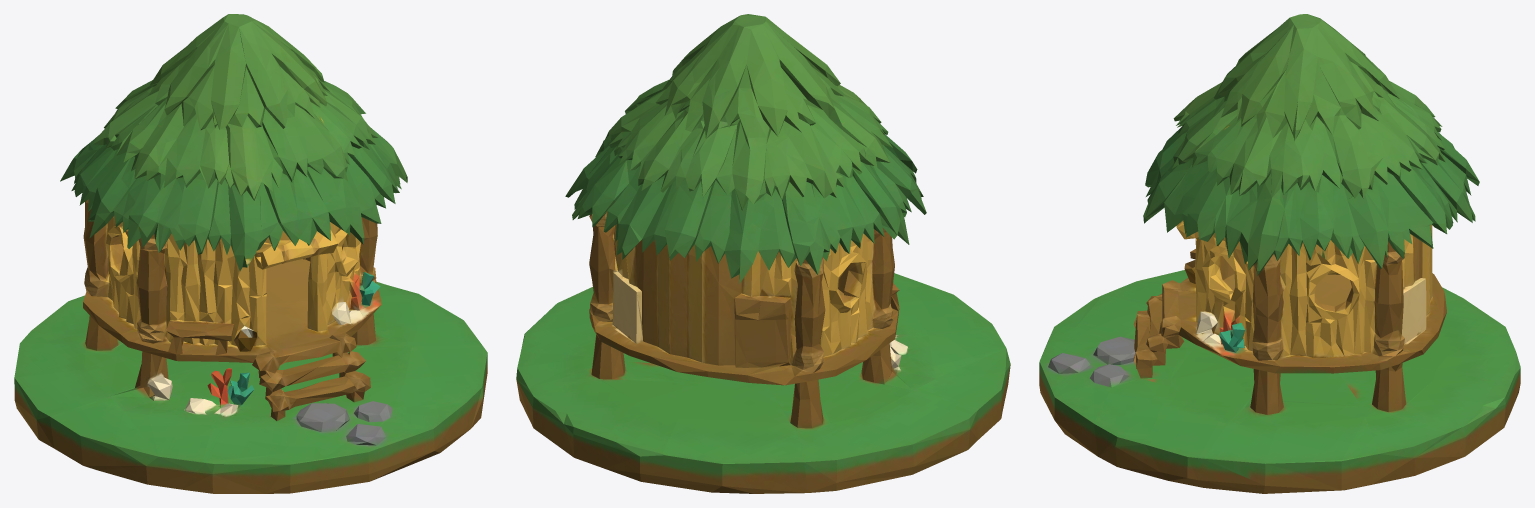
The model's file is island-cabin.glb.
3 renders of one model, left to right at view 1: azimuth 30°, elevation 25°; view 2: azimuth 150°, elevation 25°; view 3: azimuth 270°, elevation 25°, orthographic. The views are drawn at different scales.
Visible parts, largest first — view 1: tripo_node_dd67c6de-b44b-4c8d-9d7b-91734bac5e52; view 2: tripo_node_dd67c6de-b44b-4c8d-9d7b-91734bac5e52; view 3: tripo_node_dd67c6de-b44b-4c8d-9d7b-91734bac5e52.
Boxes of the visible parts, <box> form: tripo_node_dd67c6de-b44b-4c8d-9d7b-91734bac5e52: <box>14,14,487,493</box>; tripo_node_dd67c6de-b44b-4c8d-9d7b-91734bac5e52: <box>516,14,1010,493</box>; tripo_node_dd67c6de-b44b-4c8d-9d7b-91734bac5e52: <box>1039,14,1520,493</box>.
Size of the model in its own units: 0.9981 by 0.8657 by 0.9945.
Materials: 1 (1 with a texture image).
